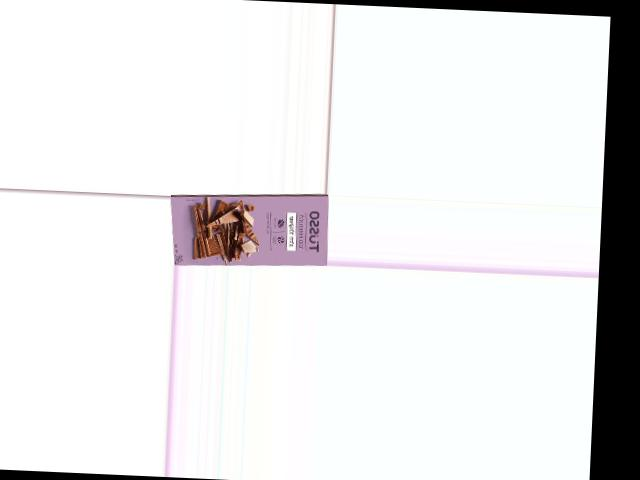chocolate: (167, 191, 326, 267)
